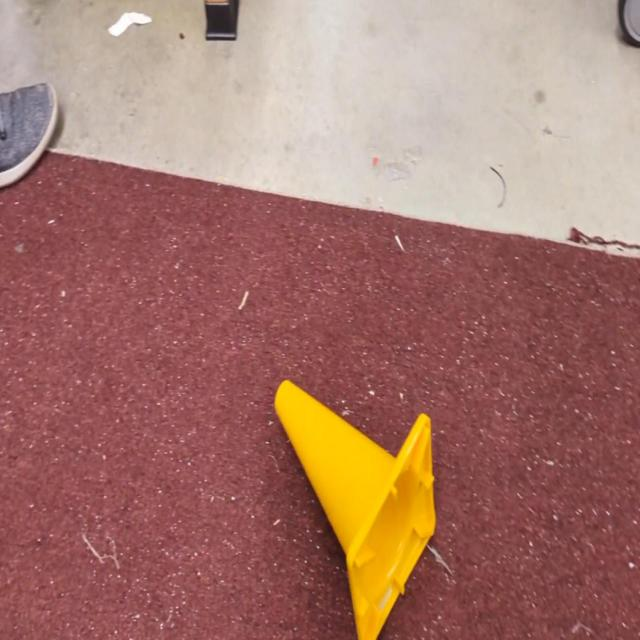frc_cone: (274, 380, 434, 640)
